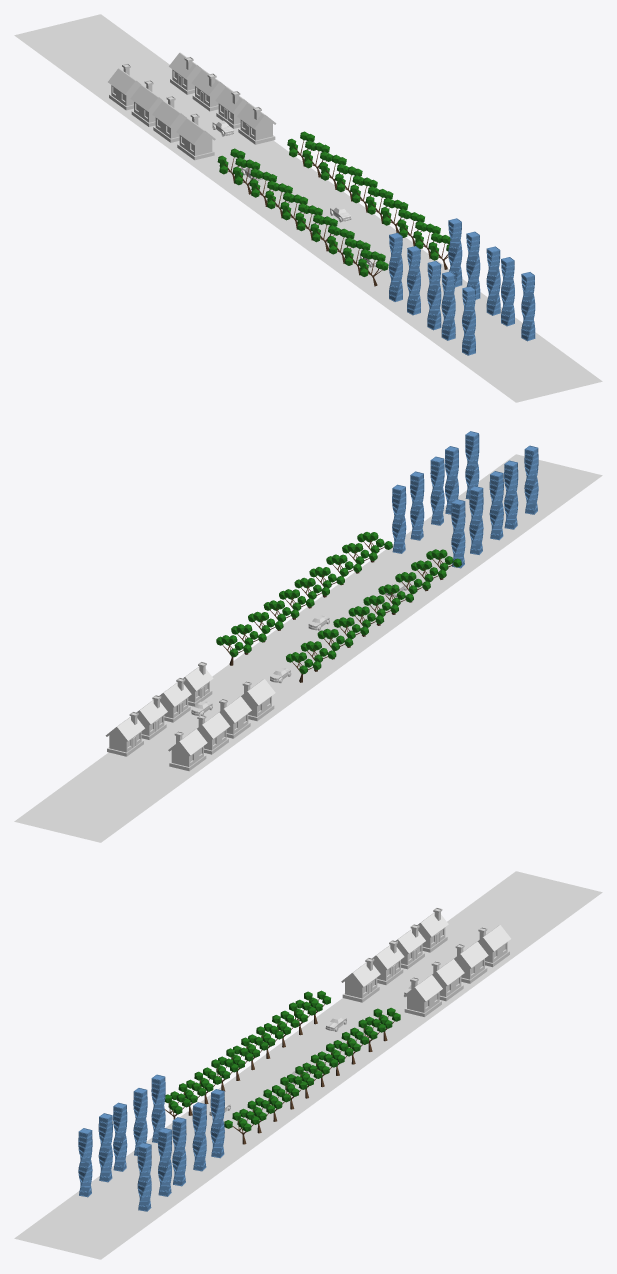
File: mundoconmodelos.glb
The picture shows the model from 3 angles, top to bottom: view 1: azimuth 30°, elevation 25°; view 2: azimuth 150°, elevation 25°; view 3: azimuth 330°, elevation 25°; orthographic projection.
Parts seen in each view (by area): view 1: Floor, Arbol.003, Arbol.004, Arbol.001, Arbol.002, Casa.006, Casa, Casa.005, Casa.007, Edificio.006, Edificio.007, Edificio.008 (+11 smaller); view 2: Floor, Arbol.001, Arbol.004, Arbol.003, Arbol.002, Casa.007, Casa.001, Casa.006, Casa.004, Casa.002, Edificio.006, Edificio.010 (+11 smaller); view 3: Floor, Arbol.002, Arbol.001, Arbol.004, Arbol.003, Casa, Casa.006, Casa.003, Casa.001, Edificio.009, Edificio.004, Edificio.010 (+11 smaller).
Boxes of the visible parts, x1,y1,x2,y2 form: Floor: [14, 14, 602, 402]; Arbol.003: [295, 205, 388, 286]; Arbol.004: [217, 148, 309, 229]; Arbol.001: [287, 131, 379, 212]; Arbol.002: [365, 189, 450, 269]; Casa.006: [176, 113, 215, 160]; Casa: [237, 102, 276, 144]; Casa.005: [152, 96, 186, 142]; Casa.007: [108, 63, 141, 110]; Edificio.006: [486, 246, 500, 315]; Edificio.007: [427, 261, 441, 330]; Edificio.008: [441, 271, 455, 340]; Floor: [14, 454, 602, 842]; Arbol.001: [216, 589, 314, 665]; Arbol.004: [286, 606, 384, 682]; Arbol.003: [363, 549, 461, 625]; Arbol.002: [294, 532, 392, 608]; Casa.007: [168, 729, 207, 771]; Casa.001: [105, 711, 144, 756]; Casa.006: [241, 679, 275, 721]; Casa.004: [197, 712, 230, 754]; Casa.002: [159, 677, 191, 722]; Edificio.006: [430, 456, 444, 525]; Edificio.010: [524, 445, 538, 514]; Floor: [14, 871, 602, 1259]; Arbol.002: [224, 1065, 322, 1144]; Arbol.001: [302, 1007, 400, 1087]; Arbol.004: [233, 990, 330, 1070]; Arbol.003: [165, 1047, 253, 1119]; Casa: [404, 975, 442, 1016]; Casa.006: [341, 957, 380, 1002]; Casa.003: [454, 941, 488, 983]; Casa.001: [477, 925, 510, 967]; Edificio.009: [137, 1142, 151, 1211]; Edificio.004: [192, 1102, 206, 1171]; Edificio.010: [78, 1128, 92, 1197].
Bounding box in the file's own units: 22.87 × 14.81 × 200.
